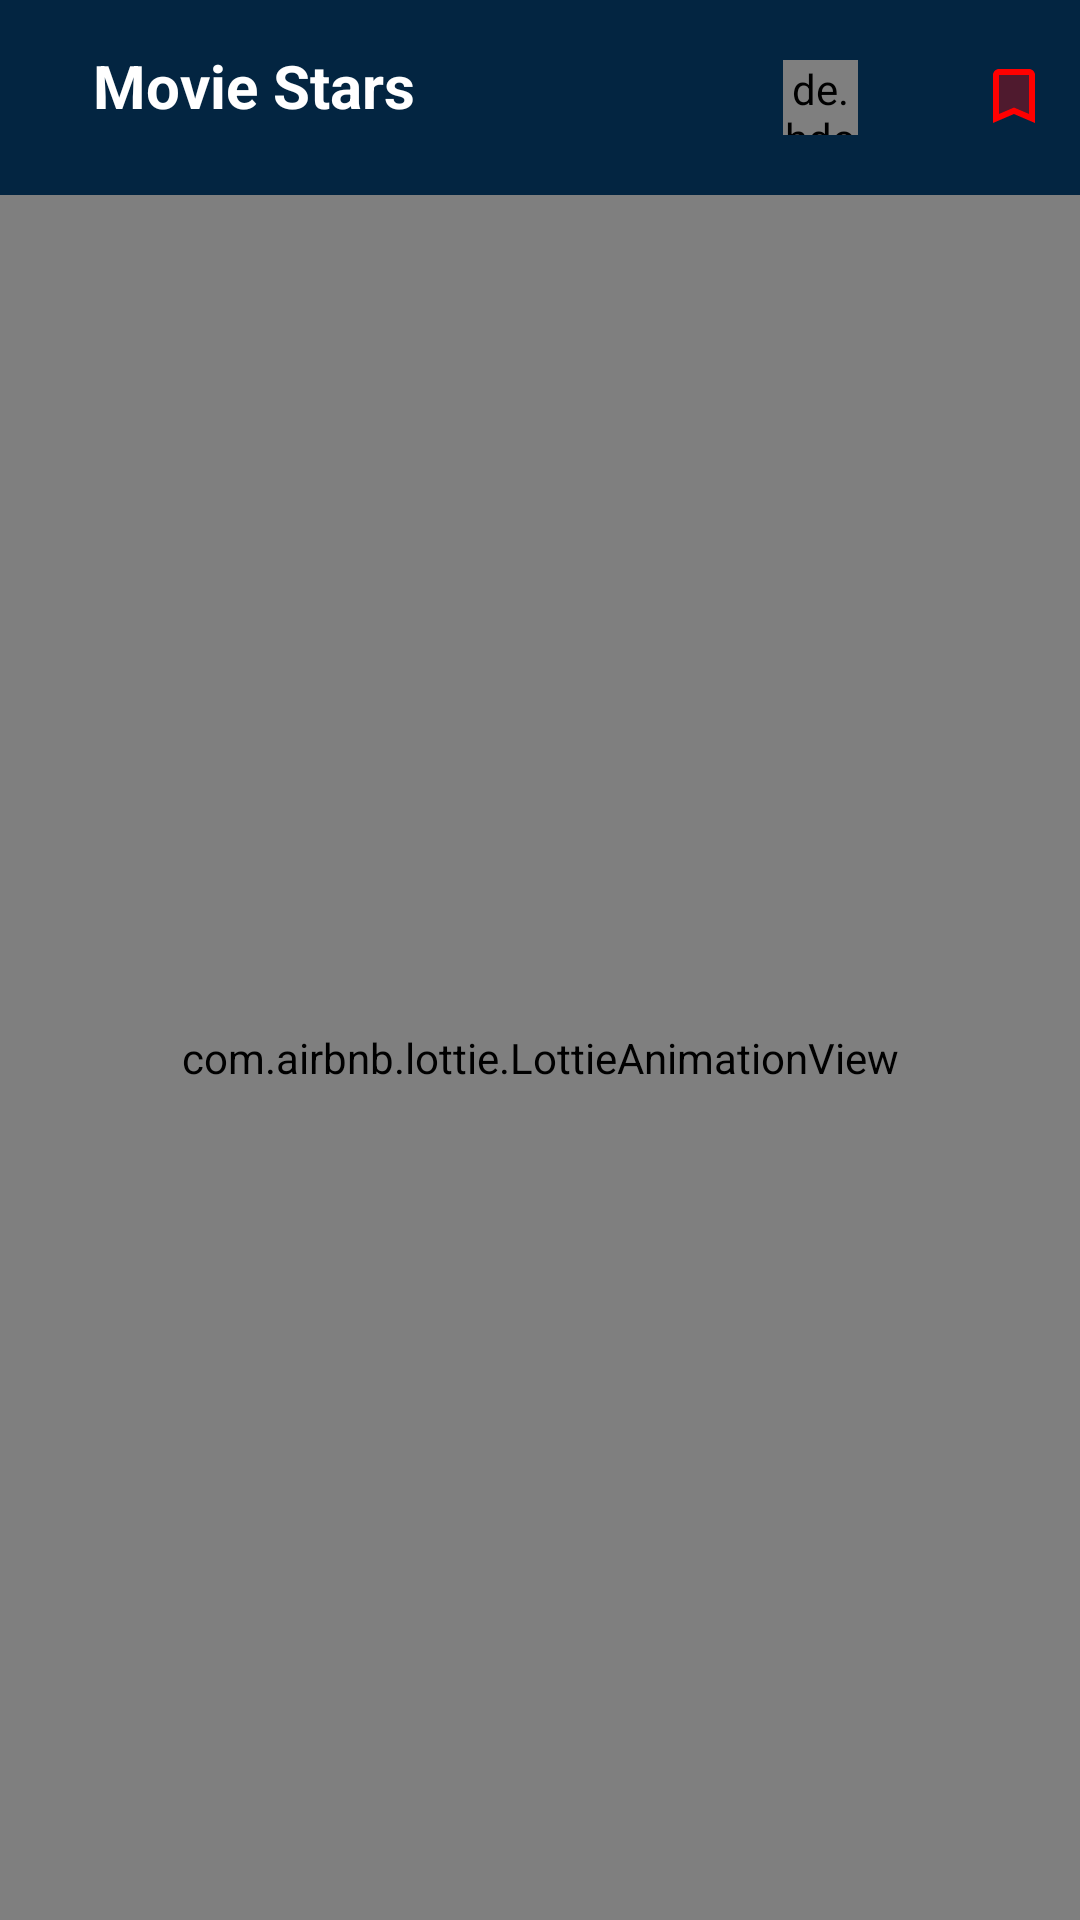

Screen size 1080*1920. Icon name, then its center in pixels as [x,y]:
bookmark added: [1014,96]
